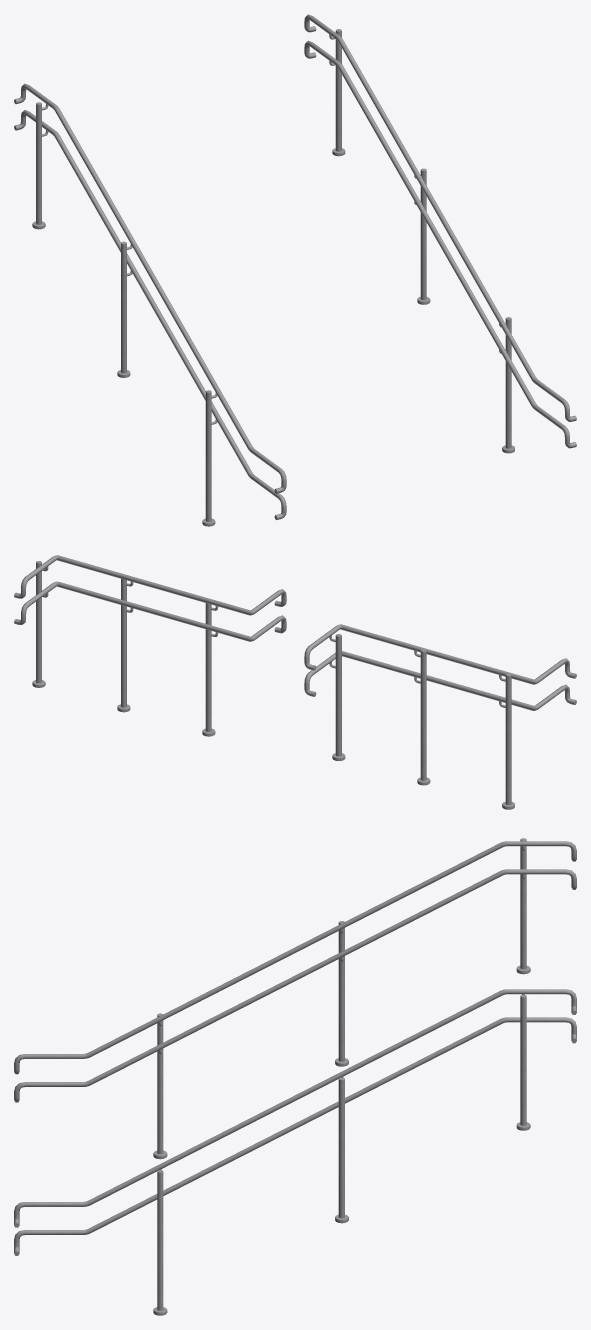
File: gteki_ik_stair_n9_r168_t299_w2206_rails_post.glb
The picture shows the model from 3 angles, top to bottom: view 1: azimuth 30°, elevation 25°; view 2: azimuth 150°, elevation 25°; view 3: azimuth 270°, elevation 25°; orthographic projection. The views are drawn at different scales.
Parts seen in each view (by area): view 1: VIS_handrails, VIS_rail_supports; view 2: VIS_handrails, VIS_rail_supports; view 3: VIS_handrails, VIS_rail_supports.
Boxes of the visible parts, <box> form: VIS_handrails: <box>14,14,576,519</box>; VIS_rail_supports: <box>32,29,514,526</box>; VIS_handrails: <box>14,555,576,710</box>; VIS_rail_supports: <box>32,561,514,809</box>; VIS_handrails: <box>14,841,576,1255</box>; VIS_rail_supports: <box>153,838,530,1315</box>.
Bounding box in the file's own units: 2.48 × 2.27 × 3.63.
Materials: 1 (1 with a texture image).
